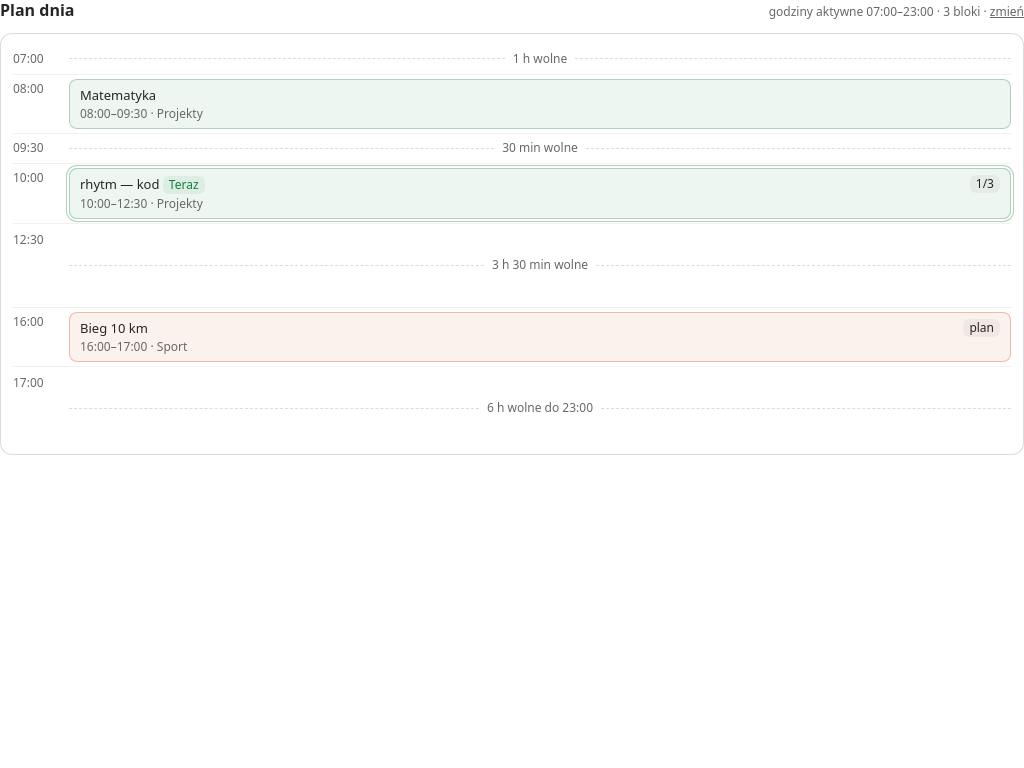
Scenario: DayPlan › klik w blok otwiera dymek; odhaczenie zadania zmienia „x/y” na liście od razu
The image size is (1024, 768).
What coordinates should you click on to do the following:
click the button "rhytm — kod Teraz 10:00–12:30 · Projekty 1/3"
I would click on:
 (120, 184)
Its box is [69,168,1011,219].
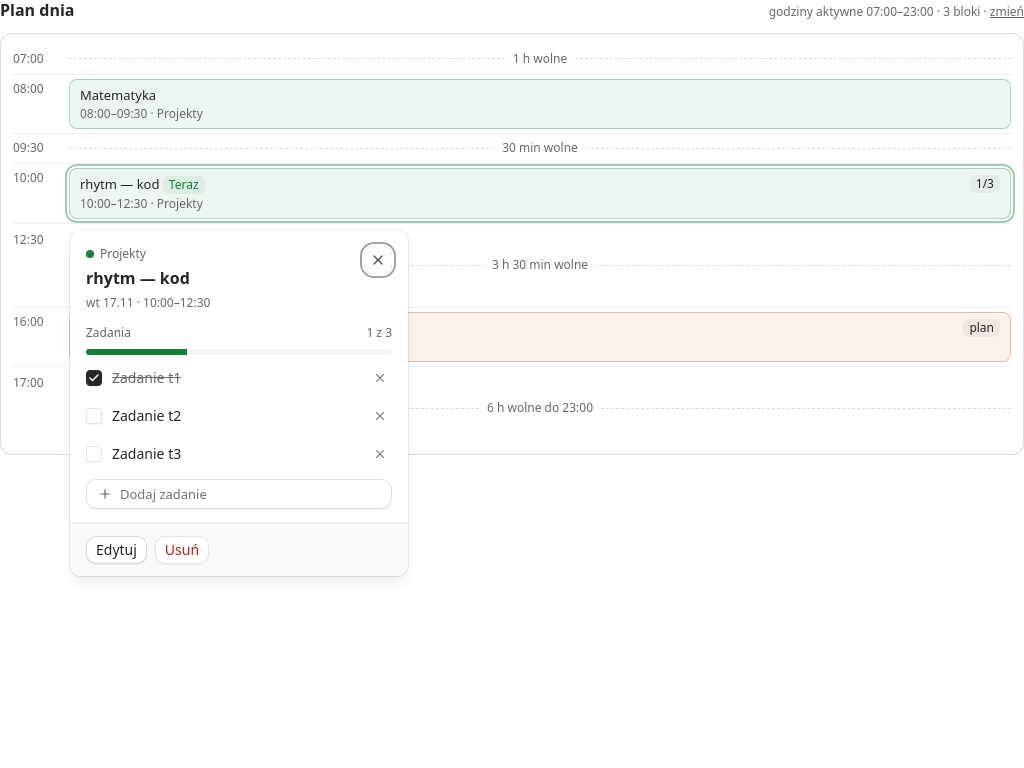
What coordinates should you click on to do the following:
click the checkbox labelled "Zadanie t2"
I would click on:
 (94, 416)
Its box is [86,408,102,424].
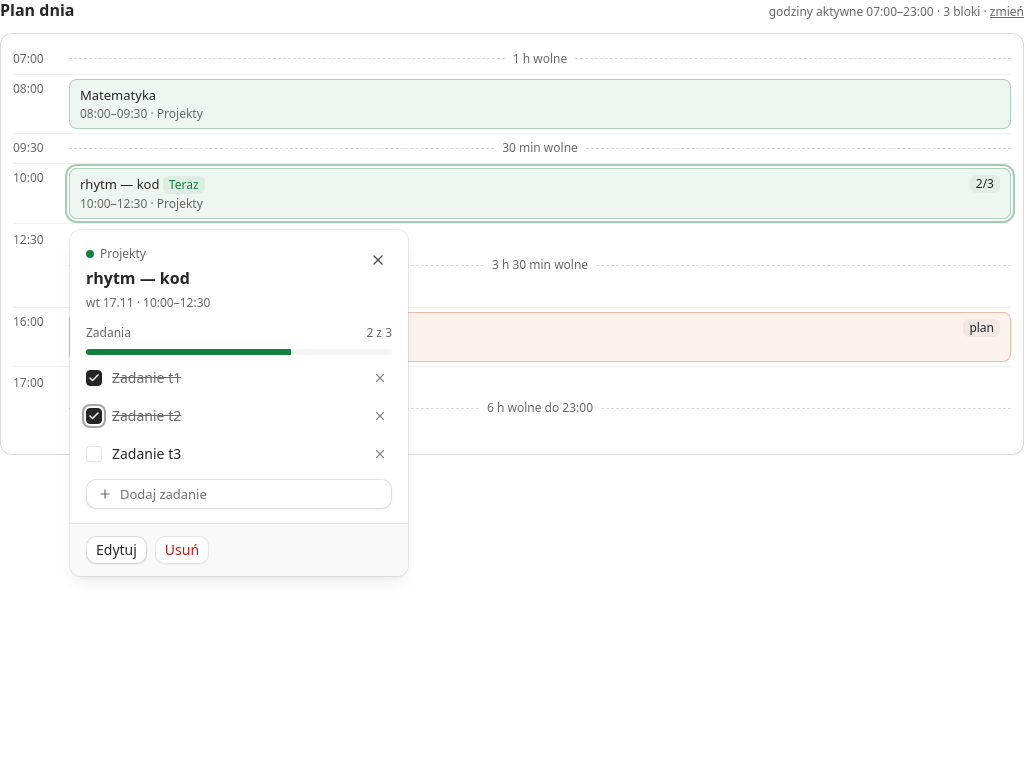
Check: the text "2/3" is shown, box [970,175,1000,193]
